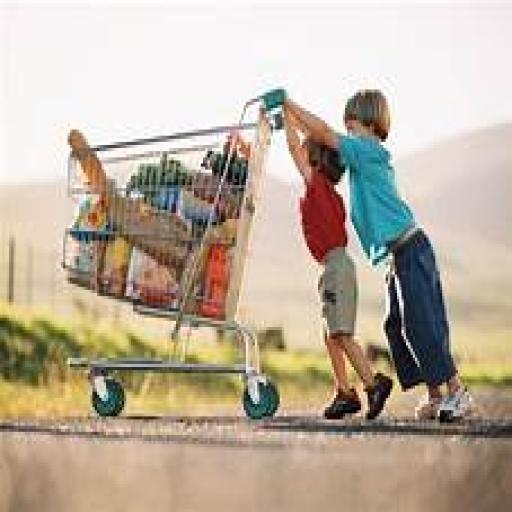shopping_cart: (61, 84, 289, 420)
